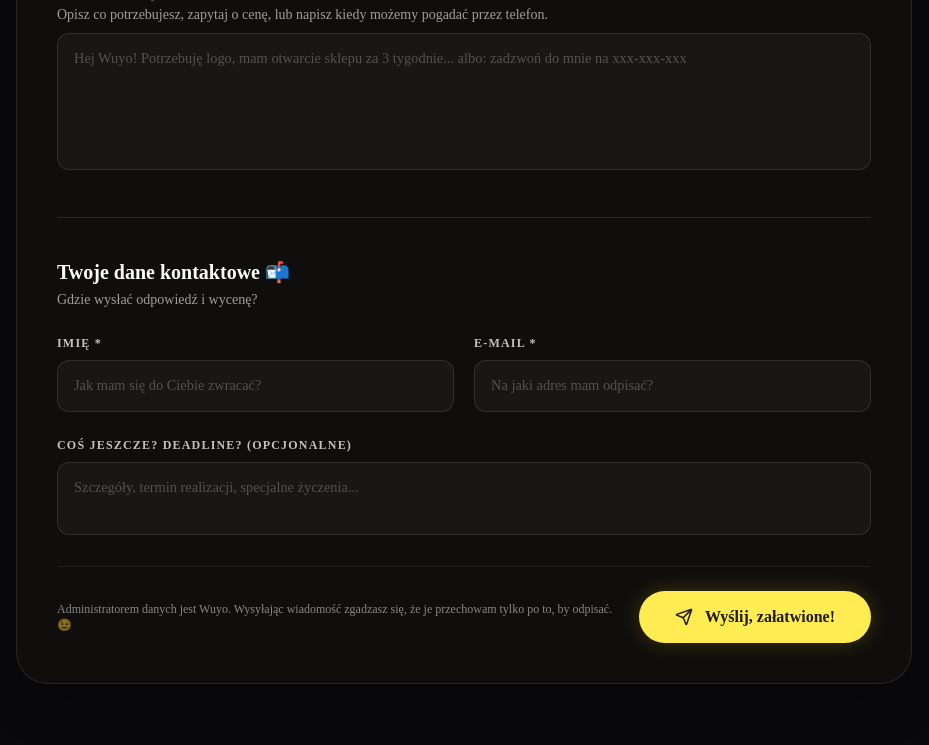
Scenario: ContactBrief › TC-2 pokazuje błędy walidacji przy pustym formularzu (path=quick)
(page scrolled)
Click the button "Wyślij, załatwione!".
click(755, 617)  # box [639,591,871,643]
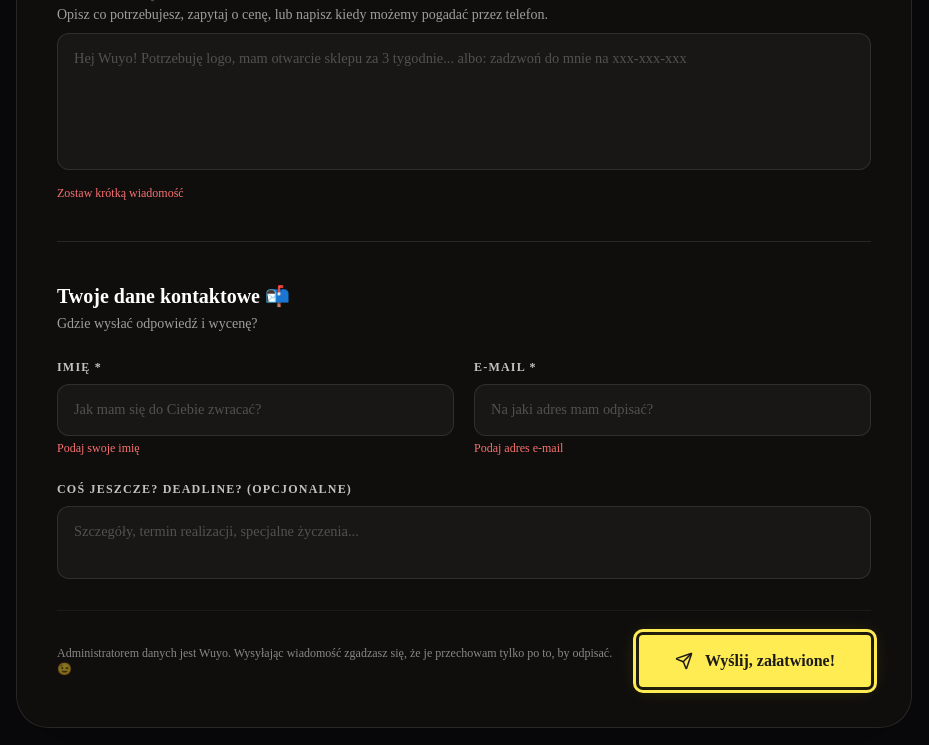
Result: the text "Podaj swoje imię" is shown at [57,441,140,455]
Result: the text "Podaj adres e-mail" is shown at [474,441,563,455]
Result: the text "Zostaw krótką wiadomość" is shown at [57,186,184,200]
